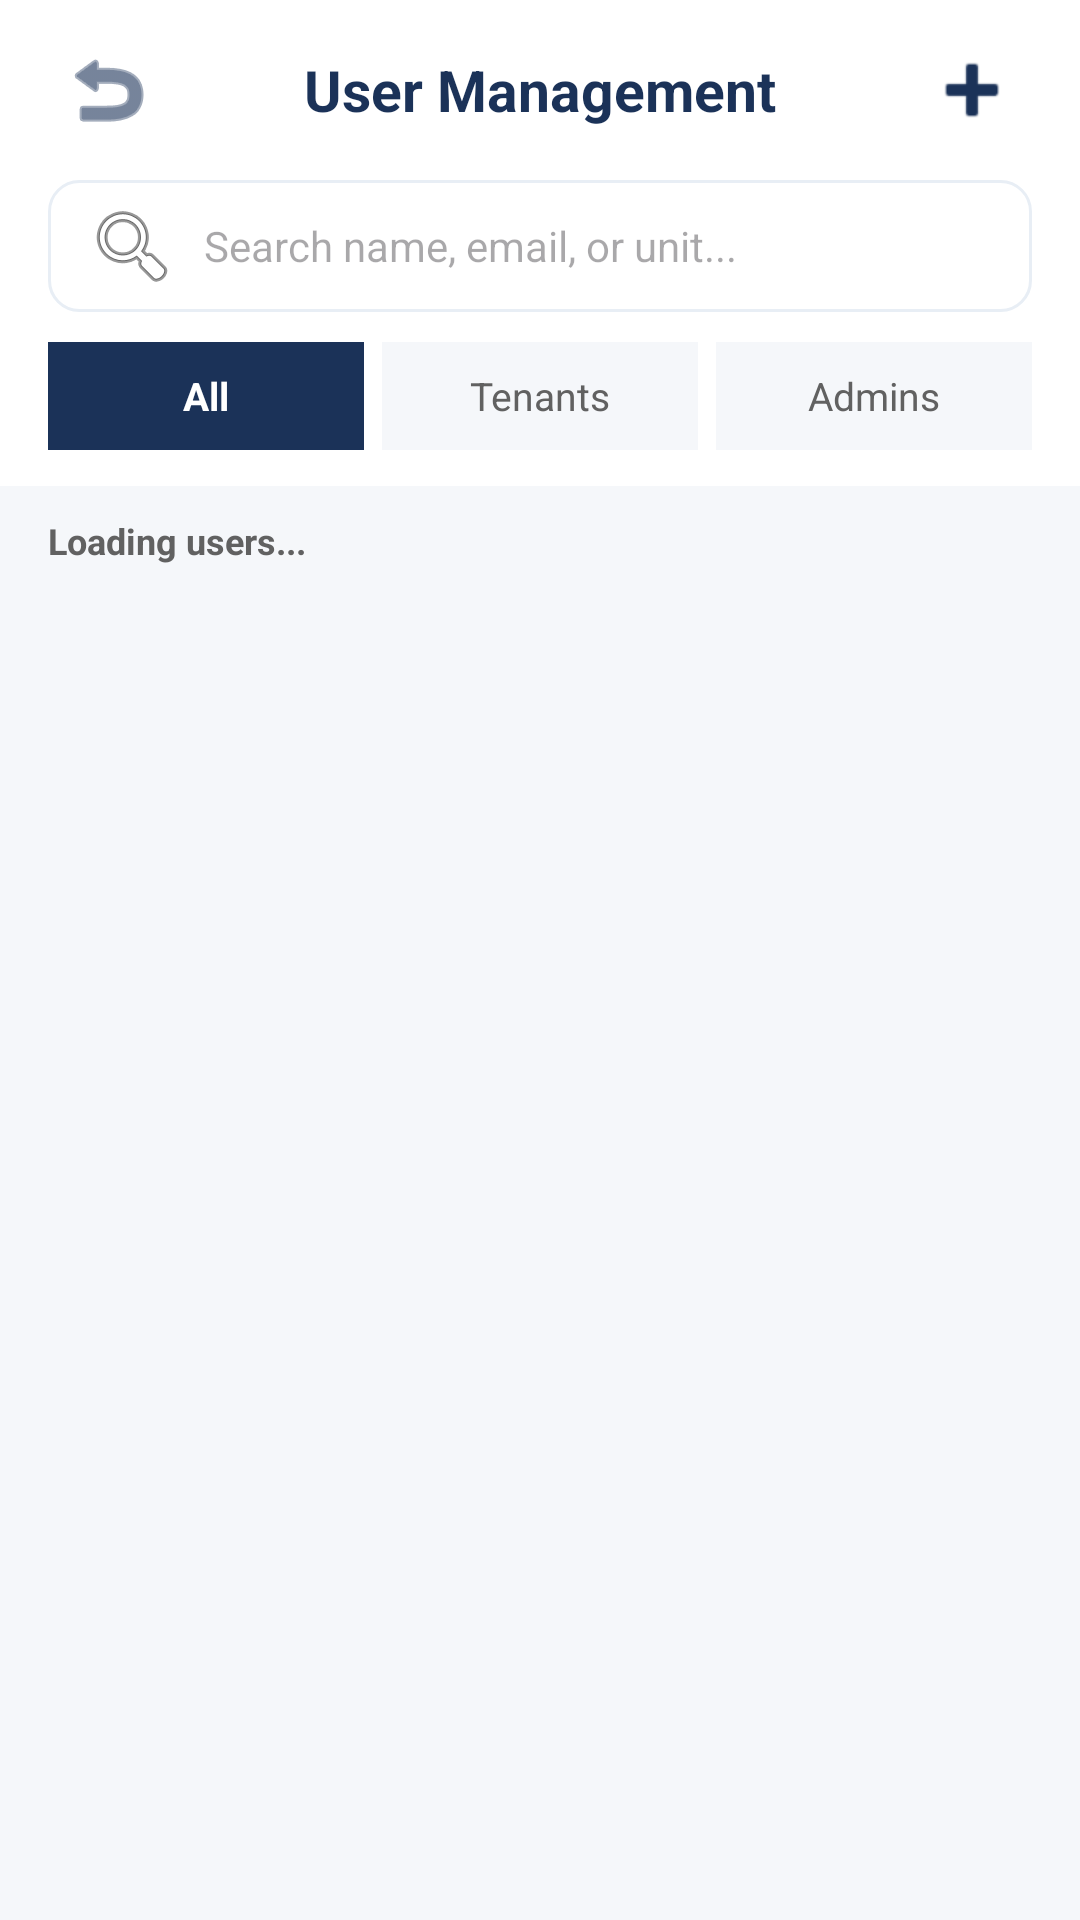

Icon click points for this 1080w x 1920h phone screenshot, format (x,y):
Add User: (972,90)
Back: (109,90)
